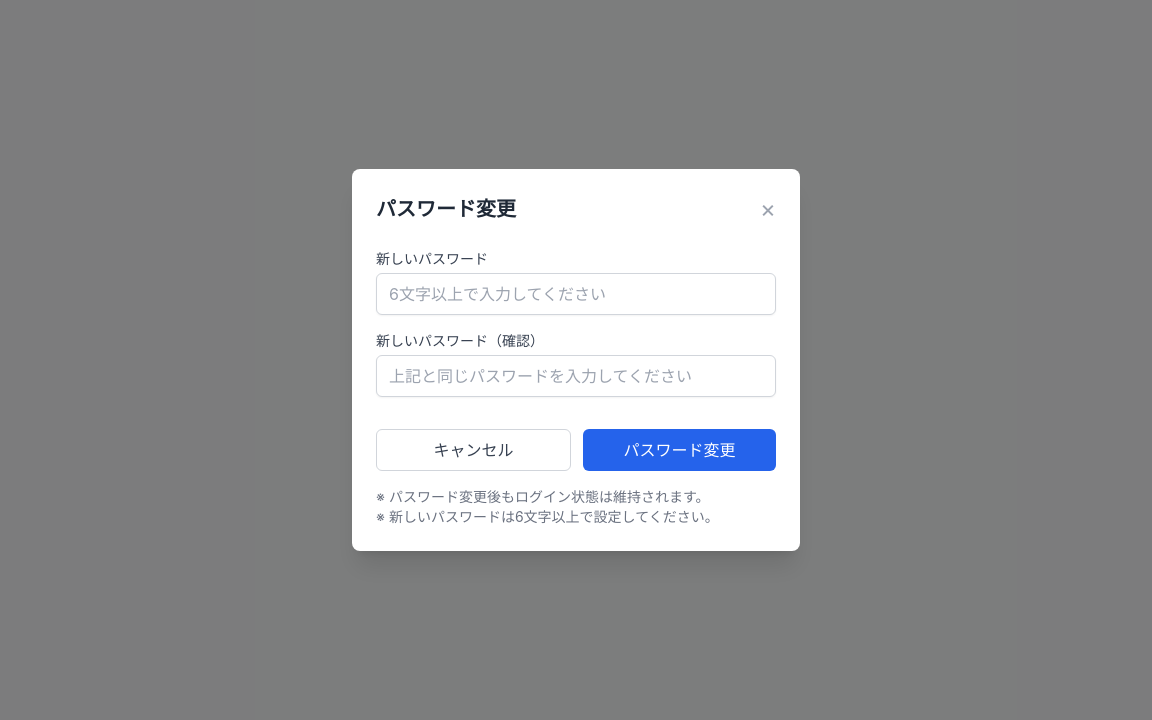
PasswordChangeForm Component › ローディング状態 › 送信中はボタンが無効化されること
Type "newpassword123" into the password field labelled "新しいパスワード" at (576, 294), box [376,273,776,315]
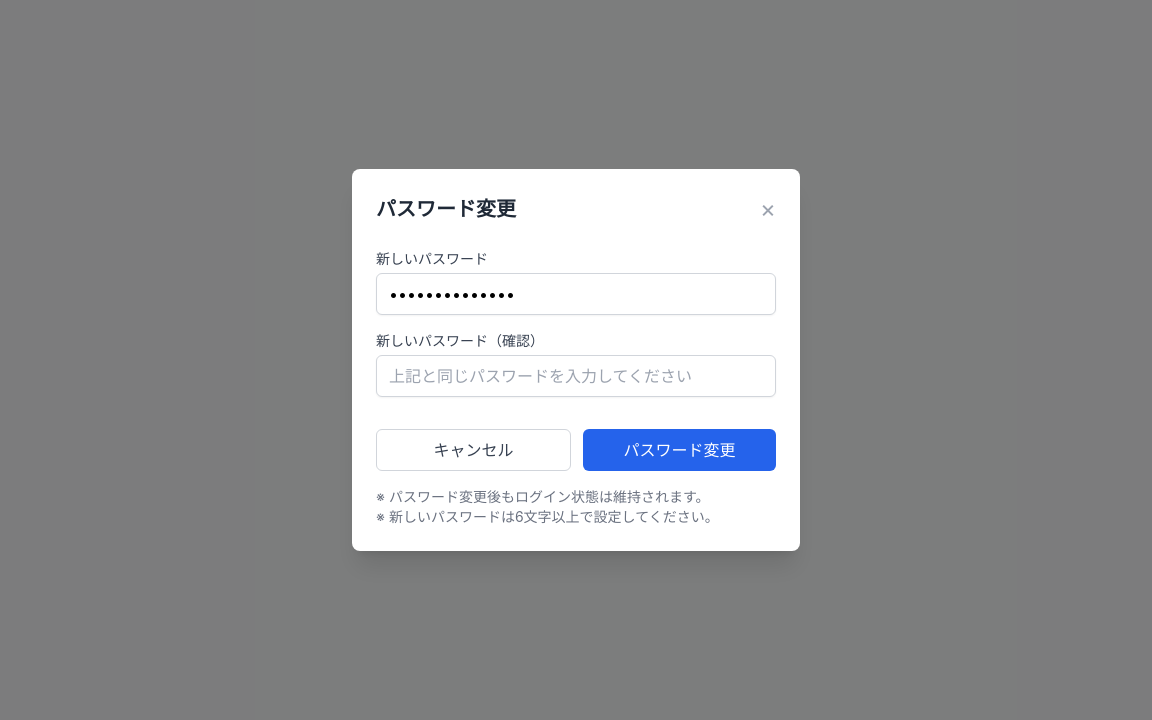
Type "newpassword123" into the password field labelled "新しいパスワード（確認）" at (576, 376), box [376,355,776,397]
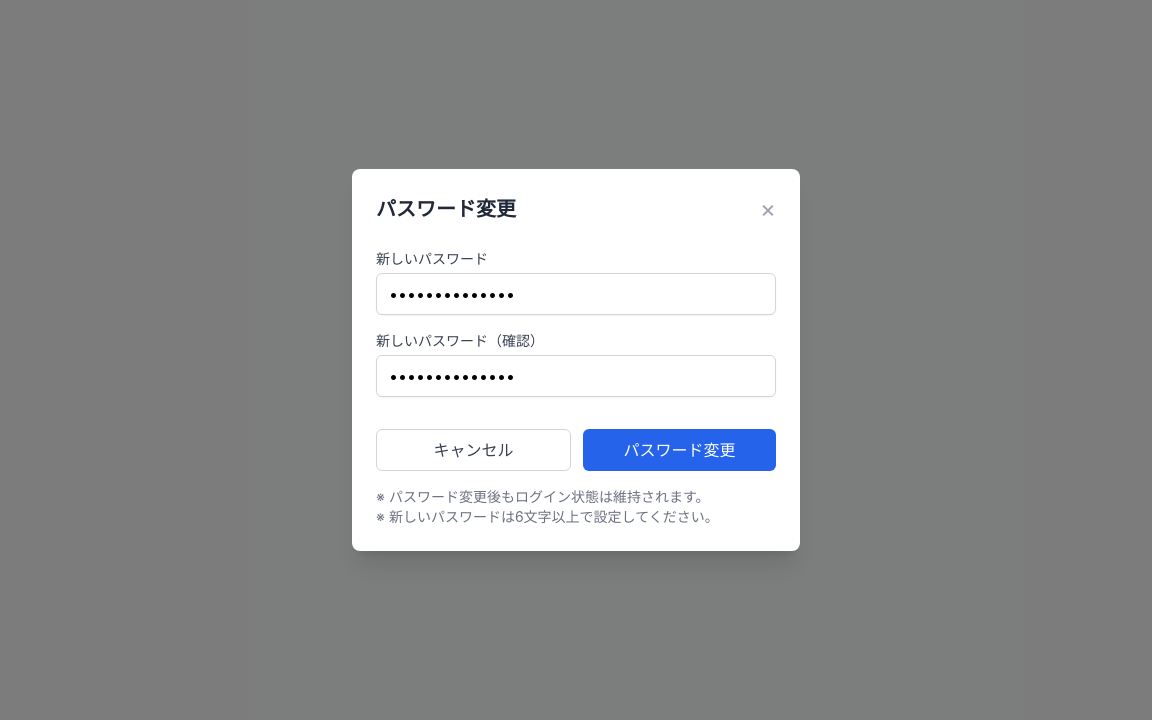
Submit the form "パスワード変更", box [376,249,776,471]
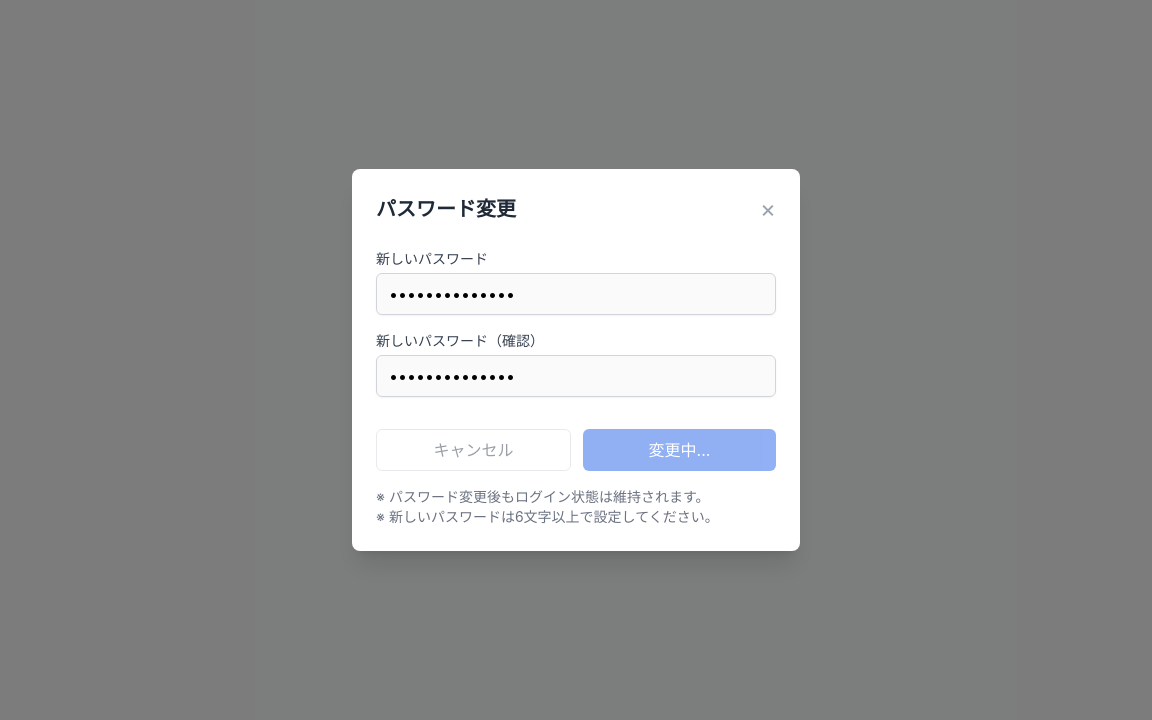
Expected: the button "×" is disabled, [760,193,776,225]
Now the button "変更中..." is disabled, box [583,429,776,471]
Now the button "キャンセル" is disabled, box [376,429,571,471]
